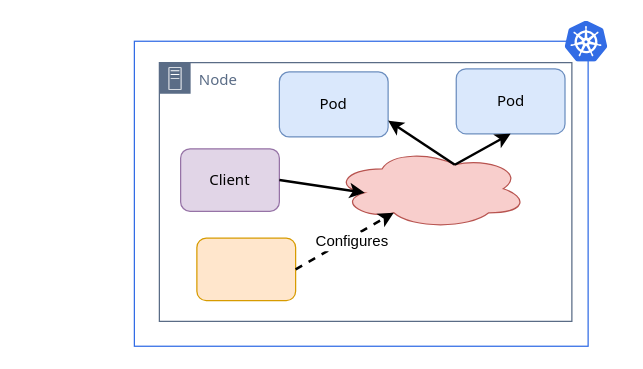
Some shapes in this 643 by 369 pixel diagram are drawn without their labels. Here are the shapes that lost their labels. From the top down, the centre of each, then its label:
At (x=430, y=188): "Service ClusterIP (iptables)".
At (x=246, y=269): "kube-proxy".
